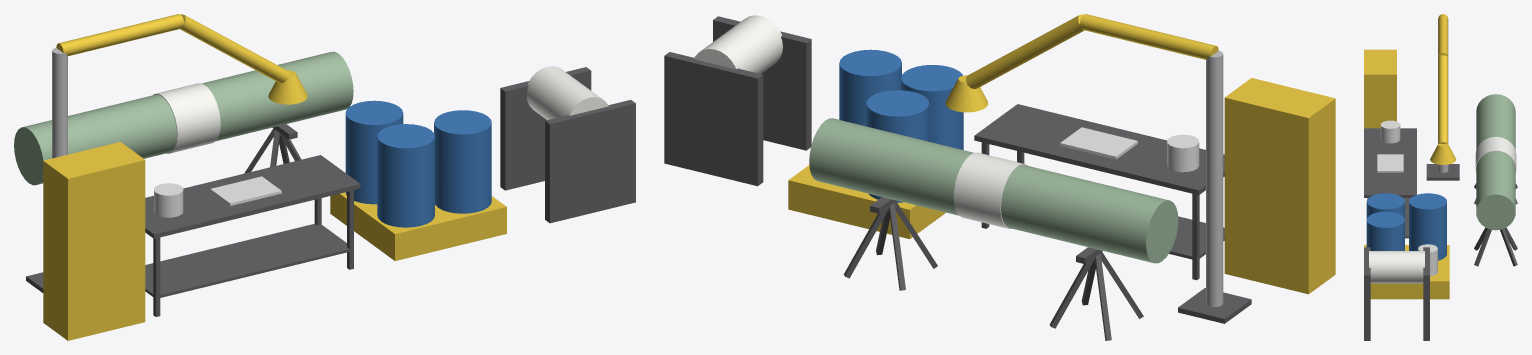
The model's file is SM_FRPRepairStation.fbx.
3 renders of one model, left to right at view 1: azimuth 30°, elevation 25°; view 2: azimuth 150°, elevation 25°; view 3: azimuth 270°, elevation 25°, orthographic. The views are drawn at different scales.
Visible parts, largest first — view 1: FRP_Station, FRP_ExtractArm2, FRP_ExtractArm1, FRP_ExtractPost; view 2: FRP_Station, FRP_ExtractPost, FRP_ExtractArm2, FRP_ExtractArm1; view 3: FRP_Station, FRP_ExtractArm2, FRP_ExtractPost, FRP_ExtractArm1.
Boxes of the visible parts, <box> form: FRP_Station: <box>14,51,635,340</box>; FRP_ExtractArm2: <box>180,14,307,104</box>; FRP_ExtractArm1: <box>56,14,184,56</box>; FRP_ExtractPost: <box>26,48,67,292</box>; FRP_Station: <box>664,15,1335,340</box>; FRP_ExtractPost: <box>1178,50,1251,323</box>; FRP_ExtractArm2: <box>945,14,1084,112</box>; FRP_ExtractArm1: <box>1079,14,1218,59</box>; FRP_Station: <box>1364,49,1517,340</box>; FRP_ExtractArm2: <box>1430,55,1456,164</box>; FRP_ExtractPost: <box>1426,18,1459,180</box>; FRP_ExtractArm1: <box>1438,14,1447,56</box>.
Bounding box in the file's own units: 660 × 269 × 233.
